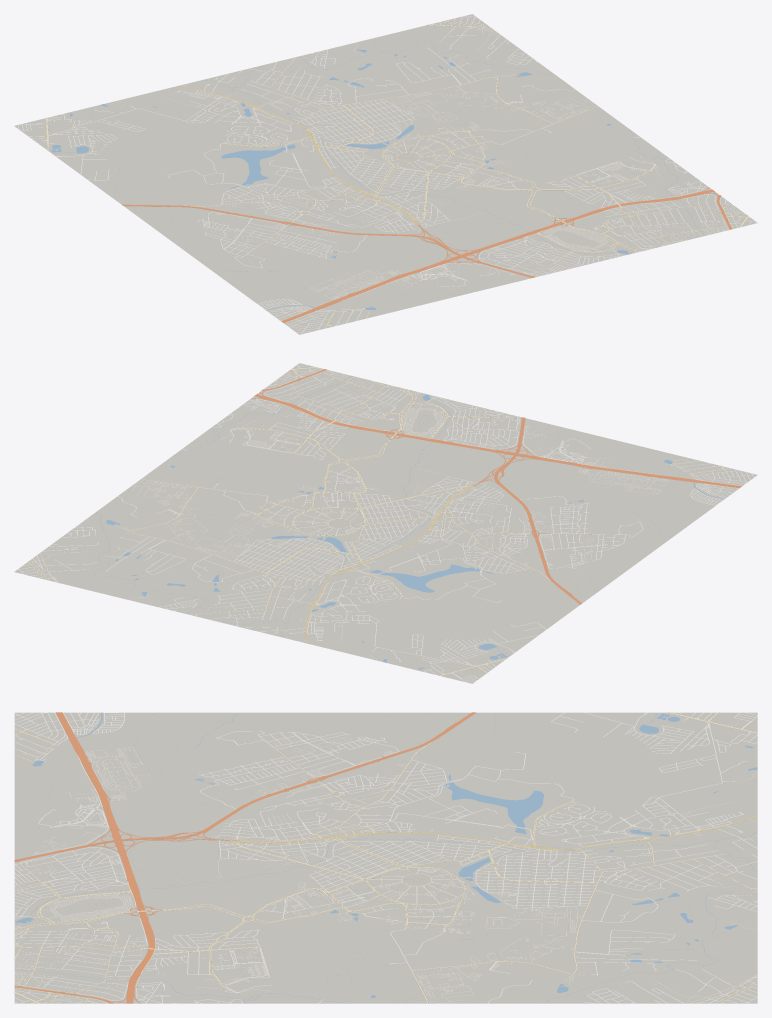
File: pilot01_barao_geraldo.glb
The picture shows the model from 3 angles, top to bottom: view 1: azimuth 30°, elevation 25°; view 2: azimuth 150°, elevation 25°; view 3: azimuth 270°, elevation 25°; orthographic projection. The views are drawn at different scales.
Visible parts, largest first — view 1: Base_Plana_Recorte, Vias_locais, Vias_coletoras, Vias_servico, Vias_rodovias, Agua_Lagos_Represas, Vias_Contorno_Principais, Agua_Rios_Corregos; view 2: Base_Plana_Recorte, Vias_locais, Vias_coletoras, Vias_servico, Vias_rodovias, Agua_Lagos_Represas, Vias_Contorno_Principais, Vias_pedestres, Agua_Rios_Corregos; view 3: Base_Plana_Recorte, Vias_locais, Vias_servico, Vias_coletoras, Vias_rodovias, Vias_Contorno_Principais, Agua_Lagos_Represas, Vias_pedestres, Agua_Rios_Corregos, Vias_arteriais.
Part boxes in pixels (x1,y1,x2,y2): Base_Plana_Recorte: (14, 14, 757, 334); Vias_locais: (18, 16, 756, 334); Vias_coletoras: (29, 21, 751, 328); Vias_servico: (39, 31, 741, 323); Vias_rodovias: (122, 187, 732, 322); Agua_Lagos_Represas: (51, 49, 629, 310); Vias_Contorno_Principais: (33, 21, 747, 327); Agua_Rios_Corregos: (53, 41, 703, 310); Base_Plana_Recorte: (14, 363, 757, 683); Vias_locais: (17, 363, 756, 683); Vias_coletoras: (28, 367, 731, 675); Vias_servico: (42, 370, 714, 674); Vias_rodovias: (251, 369, 741, 604); Agua_Lagos_Represas: (106, 394, 672, 669); Vias_Contorno_Principais: (28, 367, 740, 643); Vias_pedestres: (112, 381, 711, 670); Agua_Rios_Corregos: (94, 376, 724, 655); Base_Plana_Recorte: (14, 712, 757, 1003); Vias_locais: (14, 712, 757, 1003); Vias_servico: (14, 722, 757, 1003); Vias_coletoras: (14, 712, 757, 1003); Vias_rodovias: (14, 712, 475, 1003); Vias_Contorno_Principais: (14, 713, 756, 1003); Agua_Lagos_Represas: (15, 713, 757, 997); Vias_pedestres: (15, 712, 756, 1003); Agua_Rios_Corregos: (16, 712, 757, 1003); Vias_arteriais: (229, 816, 757, 849).
Bounding box in the file's own units: 7201 × 5.6 × 7764.
